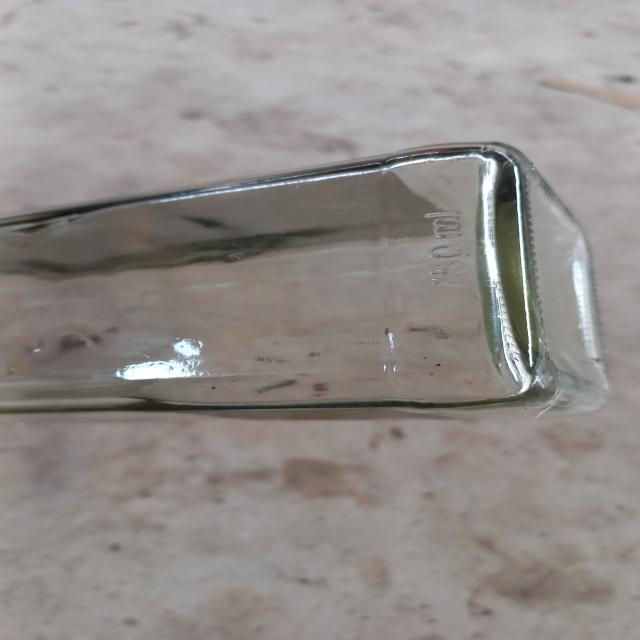Glass: (0, 142, 611, 422)
